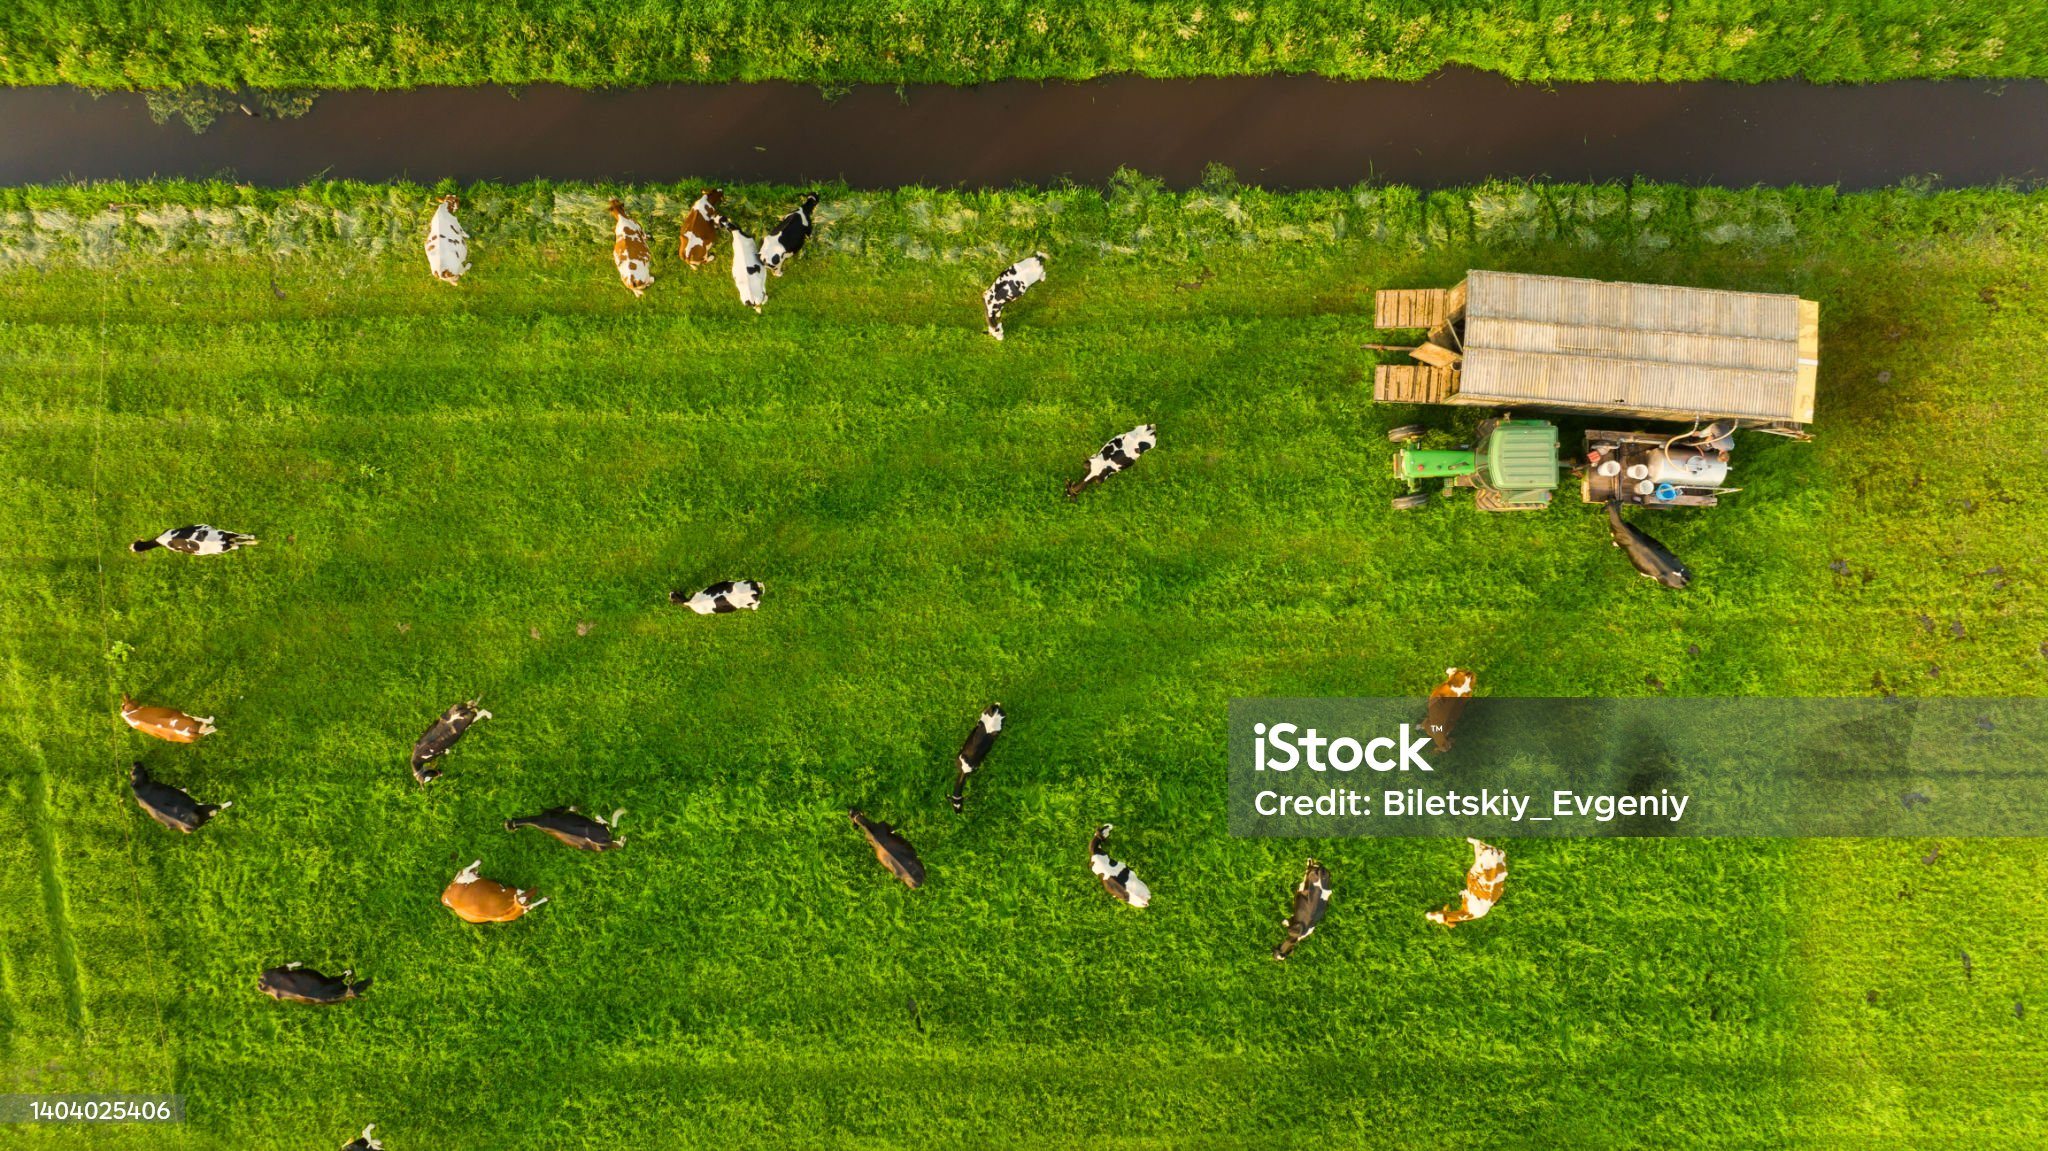cattle: (1409, 834, 1535, 939), (930, 697, 1024, 827), (1262, 848, 1353, 972), (827, 802, 949, 894), (1587, 497, 1694, 599), (399, 694, 498, 805), (1070, 816, 1165, 930), (117, 758, 233, 846), (502, 796, 633, 870), (435, 856, 553, 934), (1063, 416, 1165, 505), (589, 194, 668, 298), (978, 250, 1058, 350), (108, 682, 224, 751), (248, 955, 376, 1017), (120, 515, 262, 568), (717, 212, 774, 326), (1416, 661, 1480, 763), (648, 574, 783, 621), (421, 194, 480, 290), (761, 191, 826, 274), (677, 187, 727, 265), (331, 1119, 390, 1151)
